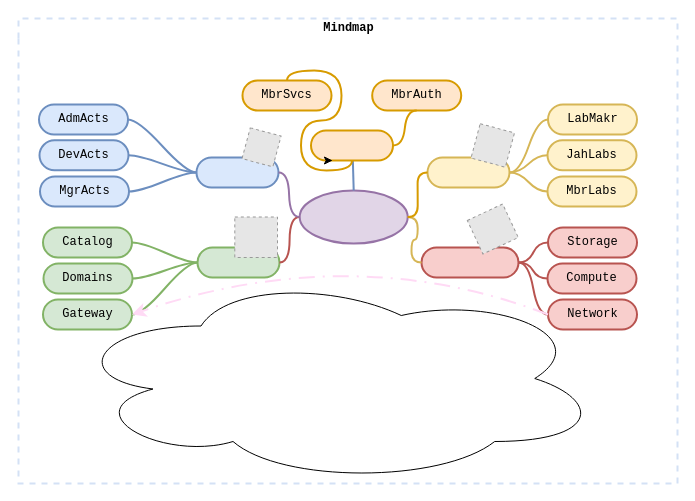
Image size: 695x501. Some labels were removed from this diagram. Grey dashed boxes stand in for pictures. Here are the shapes that lost their labels. From the top down, the centre of each, then its label:
At pixel 352 145: "ArkMbr".
At pixel 237 172: "ArkAdm".
At pixel 468 172: "ArkLab".
At pixel 353 216: "OnlyJah's Ark".
At pixel 238 262: "ArkSpc".
At pixel 469 262: "ArkInfra".
At pixel 334 378: "Vessel of dreams, creations, and the space between.".
